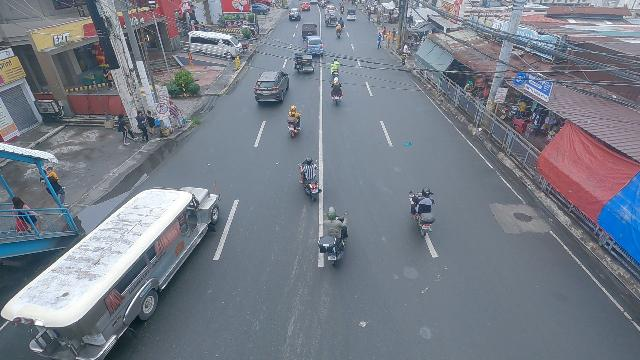car: (253, 68, 290, 105), (303, 35, 325, 57), (301, 22, 318, 38), (325, 13, 338, 27), (288, 8, 301, 21), (347, 9, 356, 21), (300, 2, 311, 11), (325, 5, 336, 13), (321, 0, 328, 8), (310, 0, 319, 5)
jeepney: (2, 183, 222, 355)
motorcycle: (315, 210, 354, 269), (408, 189, 438, 237), (297, 158, 324, 202), (285, 110, 303, 138), (293, 53, 315, 73), (328, 78, 343, 106), (331, 64, 340, 80), (336, 27, 342, 39), (340, 6, 344, 14)
